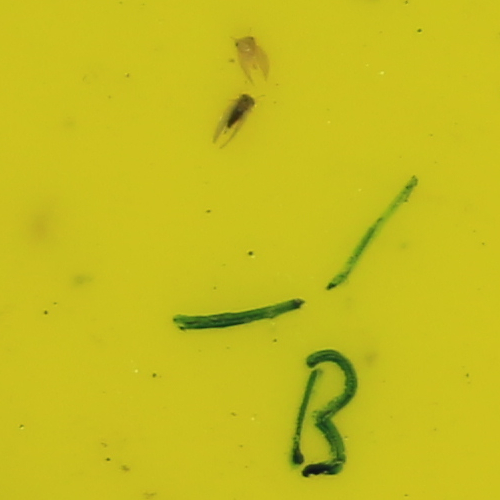Platyobria: (231, 36, 259, 68)
psylla: (226, 92, 254, 126)
